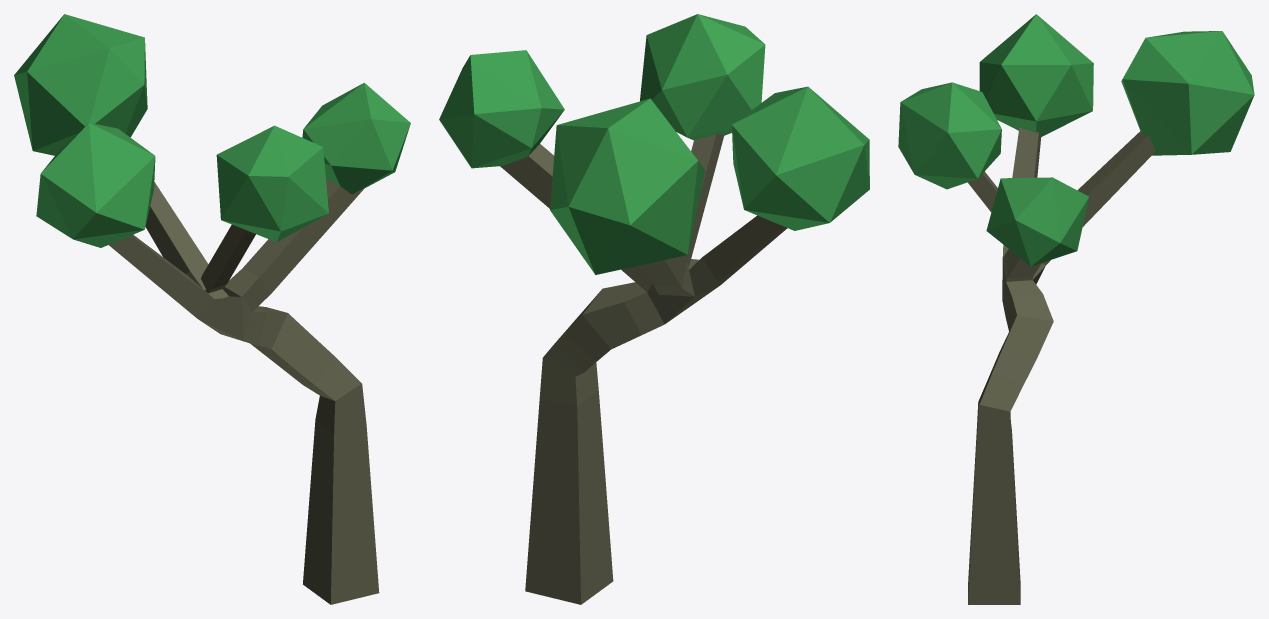
File: Tree1.glb
3 views of the same model, side by side, from view 1: azimuth 30°, elevation 25°; view 2: azimuth 150°, elevation 25°; view 3: azimuth 270°, elevation 25° (orthographic). The views are drawn at different scales.
Parts seen in each view (by area): view 1: Cube, Icosphere.002, Icosphere.005, Icosphere.007, Icosphere.003; view 2: Cube, Icosphere.002, Icosphere.005, Icosphere.007, Icosphere.003; view 3: Cube, Icosphere.002, Icosphere.005, Icosphere.007, Icosphere.003.
Boxes of the visible parts, box(x1,y1,x2,y2) form: Cube: box(107, 178, 379, 604); Icosphere.002: box(14, 14, 147, 155); Icosphere.005: box(36, 123, 155, 247); Icosphere.007: box(216, 125, 328, 242); Icosphere.003: box(302, 82, 410, 194); Cube: box(500, 133, 787, 604); Icosphere.002: box(550, 98, 705, 274); Icosphere.005: box(731, 86, 869, 230); Icosphere.007: box(640, 14, 765, 140); Icosphere.003: box(439, 50, 564, 168); Cube: box(968, 127, 1155, 604); Icosphere.002: box(1121, 31, 1254, 155); Icosphere.005: box(979, 14, 1093, 136); Icosphere.007: box(898, 82, 1001, 189); Icosphere.003: box(986, 177, 1088, 266).
Bounding box in the file's own units: 5.17 × 7.21 × 4.73.
